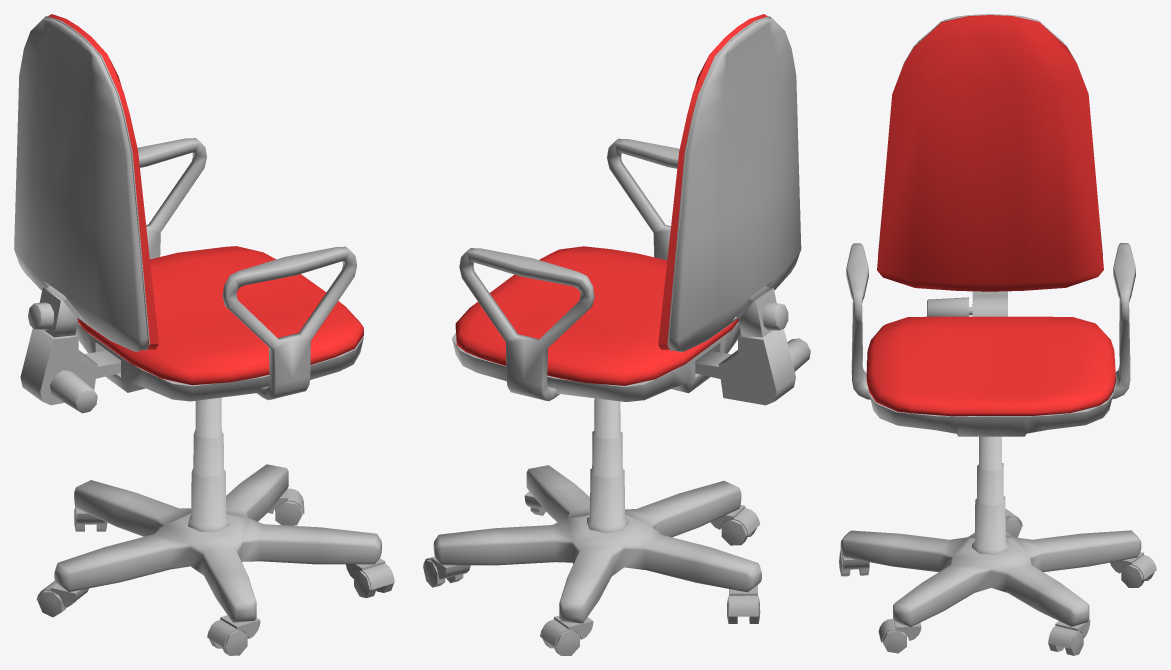
Rendered from chair_2.FBX.
3 renders of one model, left to right at view 1: azimuth 30°, elevation 25°; view 2: azimuth 150°, elevation 25°; view 3: azimuth 270°, elevation 25°, orthographic. The views are drawn at different scales.
Visible parts, largest first — view 1: chair_2; view 2: chair_2; view 3: chair_2.
Boxes of the visible parts, x1=… form: chair_2: x1=14, y1=14, x2=394, y2=655; chair_2: x1=423, y1=14, x2=810, y2=655; chair_2: x1=839, y1=14, x2=1156, y2=655.
Bounding box in the file's own units: 0.6019 × 1.06 × 0.58.
